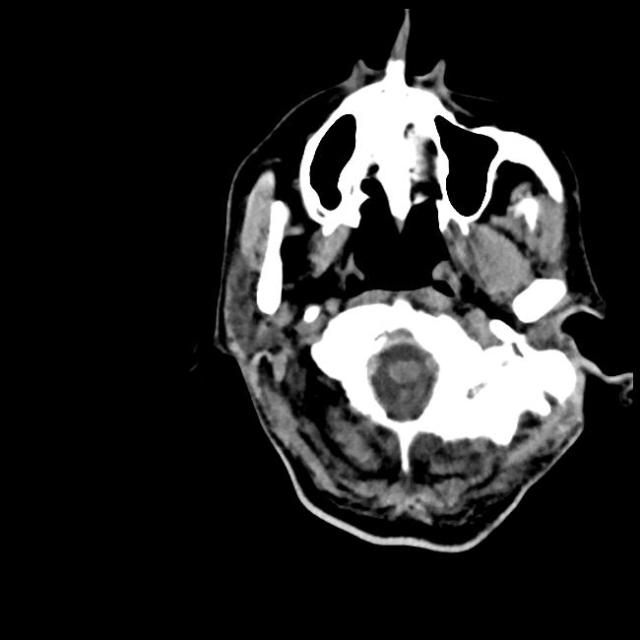lesion: (209, 11, 633, 554)
